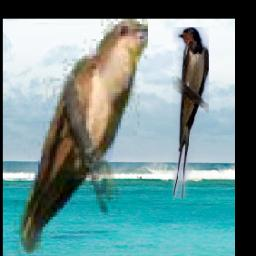Cuckoo: (14, 19, 148, 256)
Swallow: (172, 27, 209, 198)
